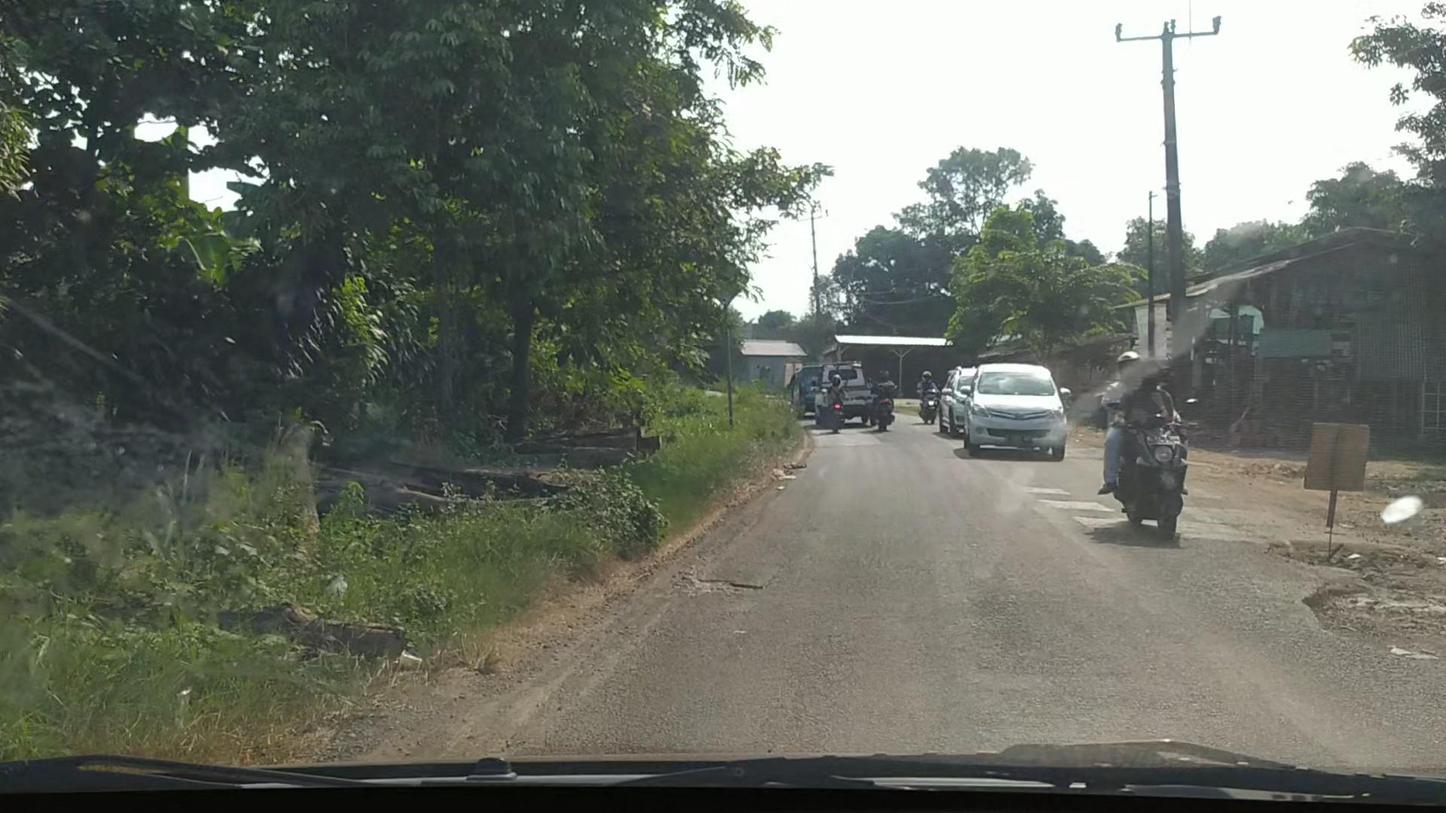pothole: (1273, 542, 1445, 659)
